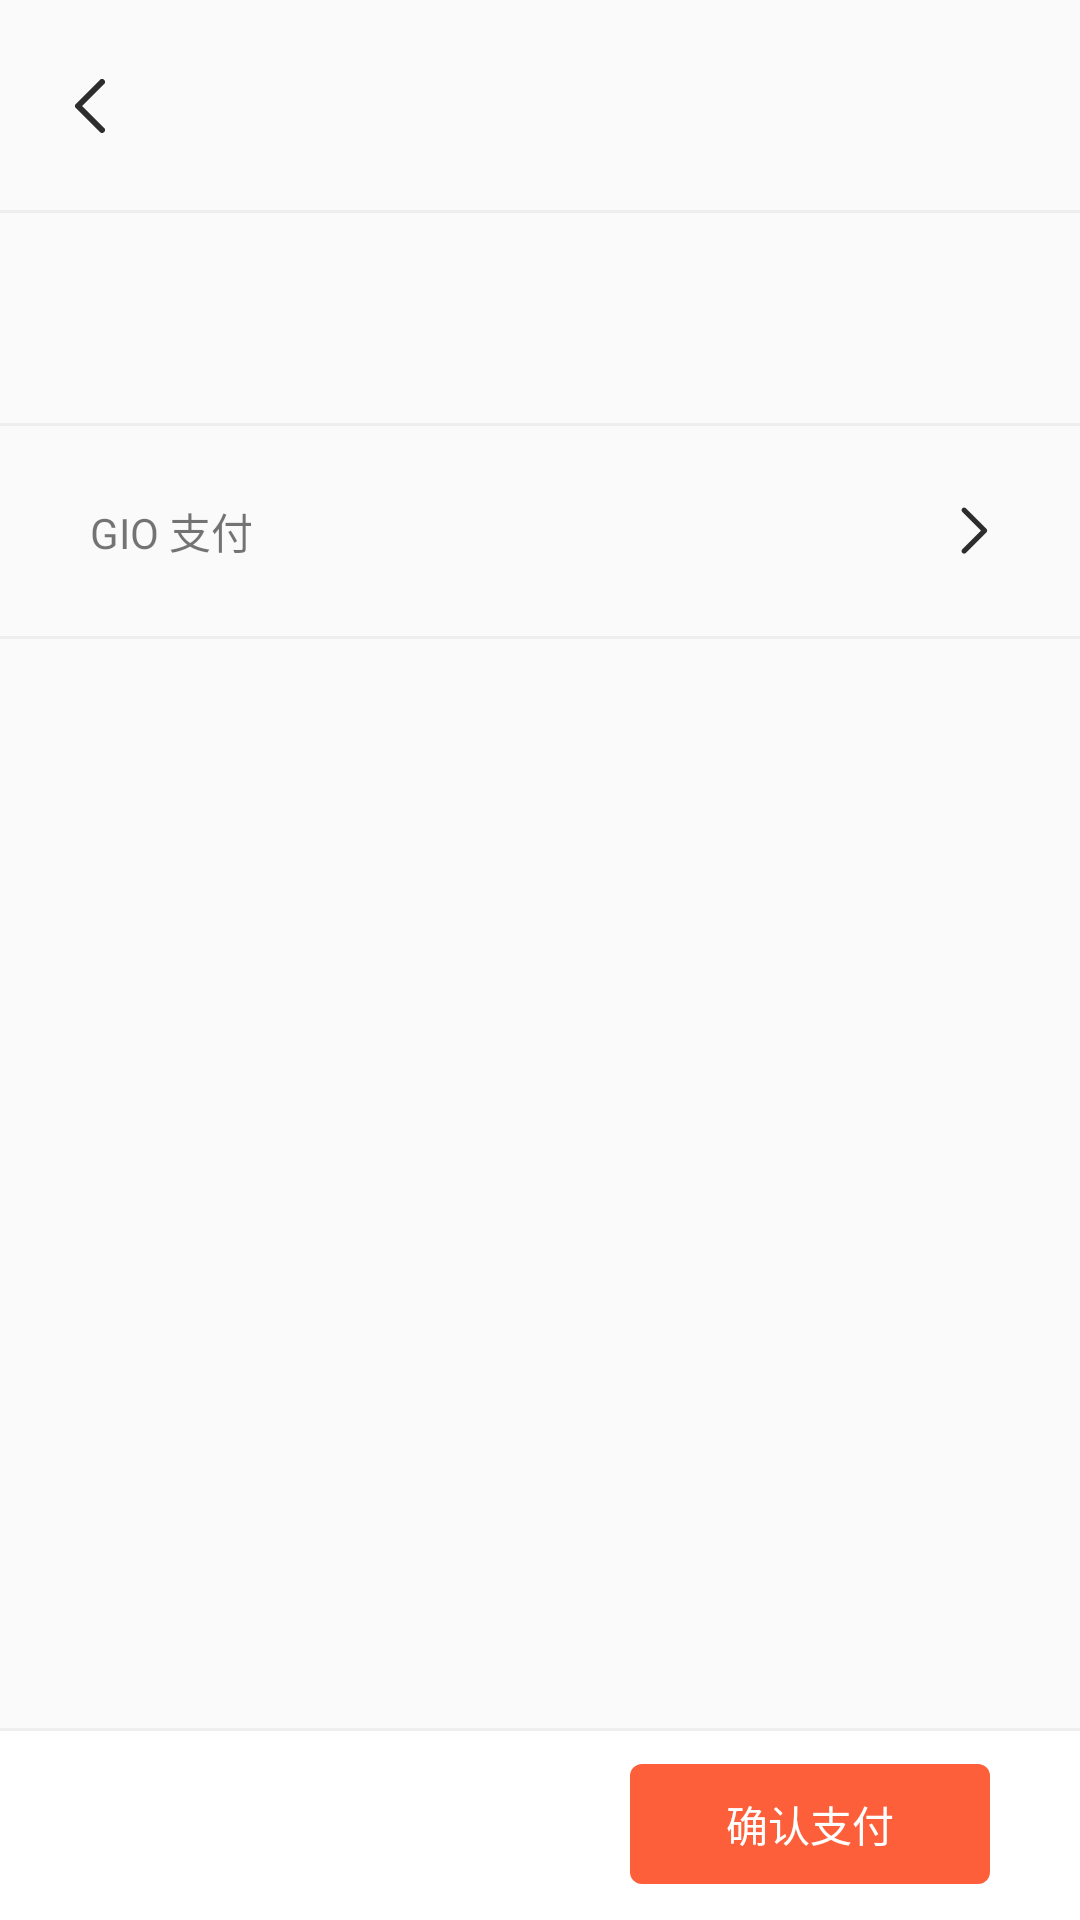

Where to tap for icons on this 1080 x 1920 app screen, as (x,y):
arrow left: (90,106)
